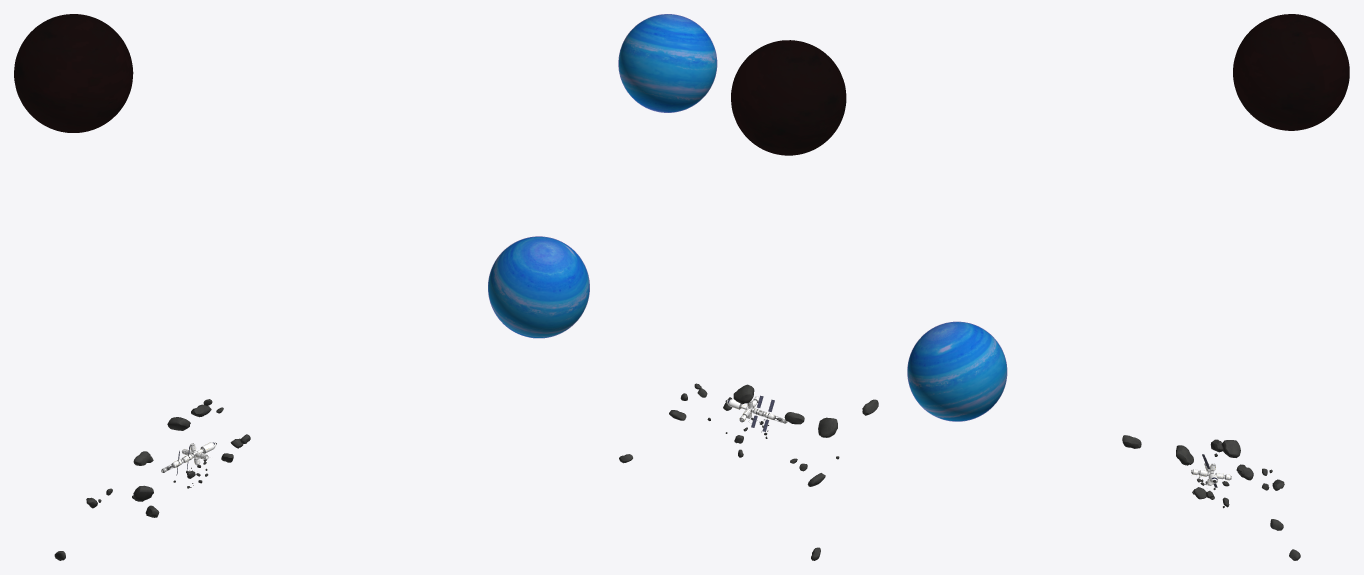
Rendered from craftplanet1.glb.
3 renders of one model, left to right at view 1: azimuth 30°, elevation 25°; view 2: azimuth 150°, elevation 25°; view 3: azimuth 270°, elevation 25°, orthographic. The views are drawn at different scales.
Visible parts, largest first — view 1: defaultMaterial, Object_6, Object_4, polySurface14371_phong4_0; view 2: defaultMaterial, Object_6, Object_4, polySurface14371_phong4_0, polySurface14371_FinalTexture_0; view 3: defaultMaterial, Object_6, Object_4, polySurface14371_phong4_0.
Part boxes in pixels (x1,y1,x2,y2): defaultMaterial: [14, 14, 133, 132]; Object_6: [488, 236, 589, 338]; Object_4: [488, 237, 589, 337]; polySurface14371_phong4_0: [54, 399, 250, 560]; defaultMaterial: [731, 40, 846, 155]; Object_6: [618, 14, 717, 112]; Object_4: [619, 14, 716, 112]; polySurface14371_phong4_0: [619, 383, 878, 560]; polySurface14371_FinalTexture_0: [725, 395, 787, 431]; defaultMaterial: [1233, 14, 1349, 130]; Object_6: [907, 321, 1007, 421]; Object_4: [907, 322, 1006, 421]; polySurface14371_phong4_0: [1122, 435, 1300, 560].
Size of the model in its own units: 530 by 688 by 530.
Materials: 9 (7 with a texture image).
